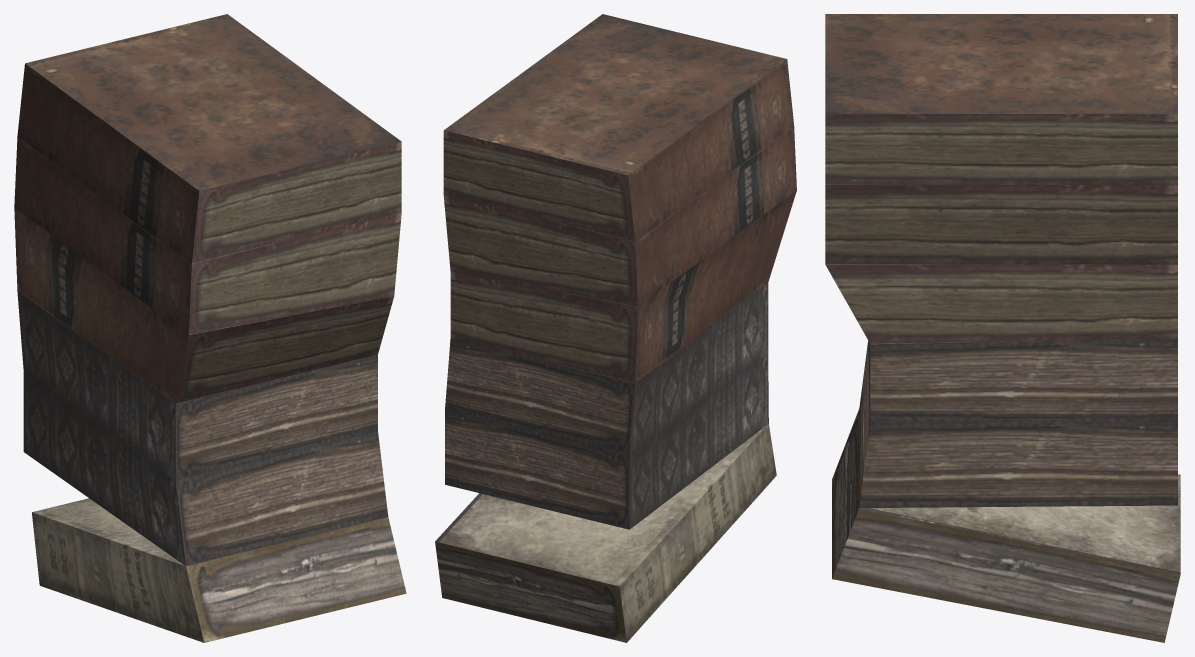
File: p_glo_books_row01_LOD1.obj
3 renders of one model, left to right at view 1: azimuth 30°, elevation 25°; view 2: azimuth 150°, elevation 25°; view 3: azimuth 270°, elevation 25°, orthographic. The views are drawn at different scales.
Parts seen in each view (by area): view 1: mtl_p_glo_books; view 2: mtl_p_glo_books; view 3: mtl_p_glo_books.
Part boxes in pixels (bbox=[...]): mtl_p_glo_books: bbox=[14, 14, 406, 642]; mtl_p_glo_books: bbox=[435, 14, 796, 642]; mtl_p_glo_books: bbox=[825, 14, 1180, 642].
Bounding box in the file's own units: 15.15 × 34.01 × 20.85.
